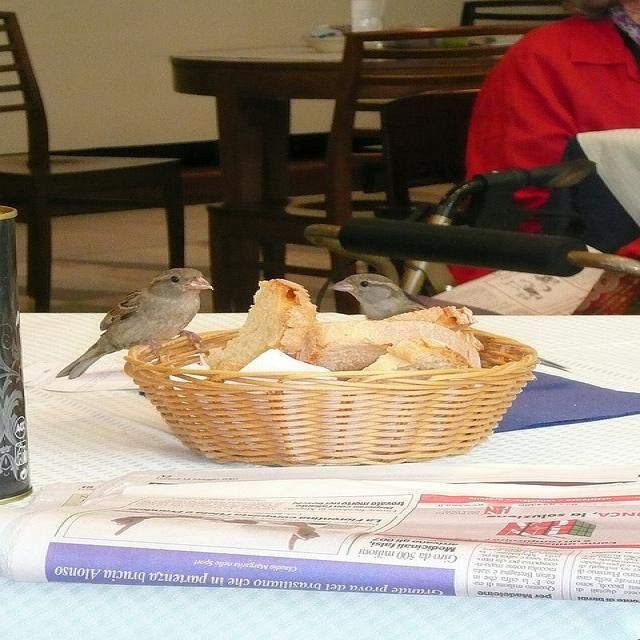chair: (205, 20, 556, 309), (0, 10, 189, 311), (455, 0, 588, 23)
dining table: (0, 205, 640, 634), (171, 22, 560, 313)
